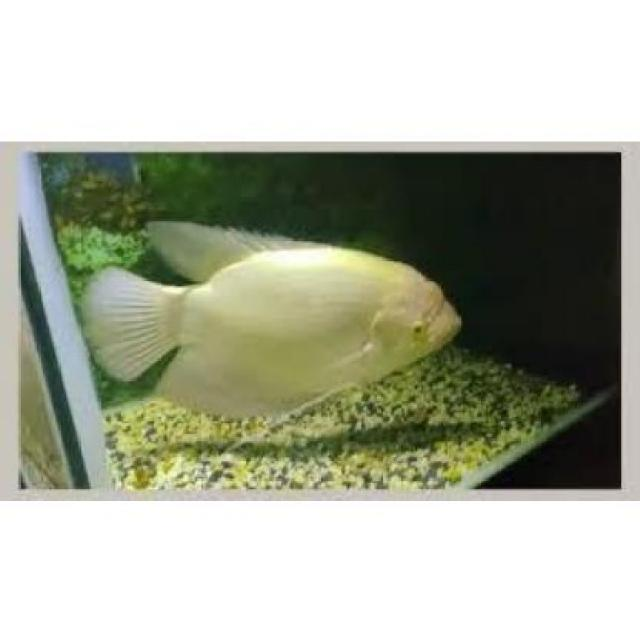gurame: (81, 224, 464, 418)
